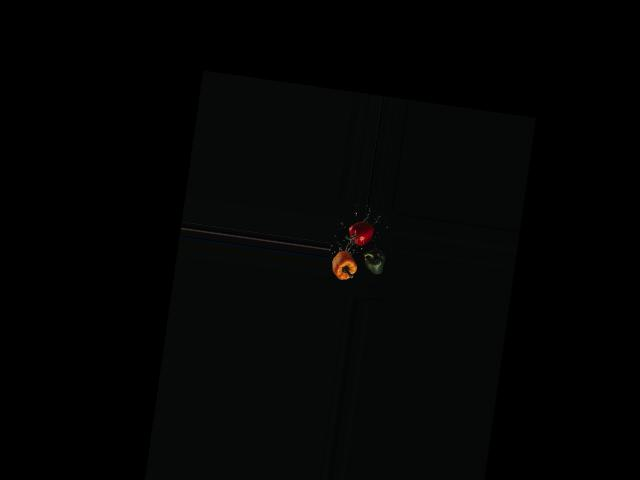bell_pepper: (339, 218, 380, 252)
